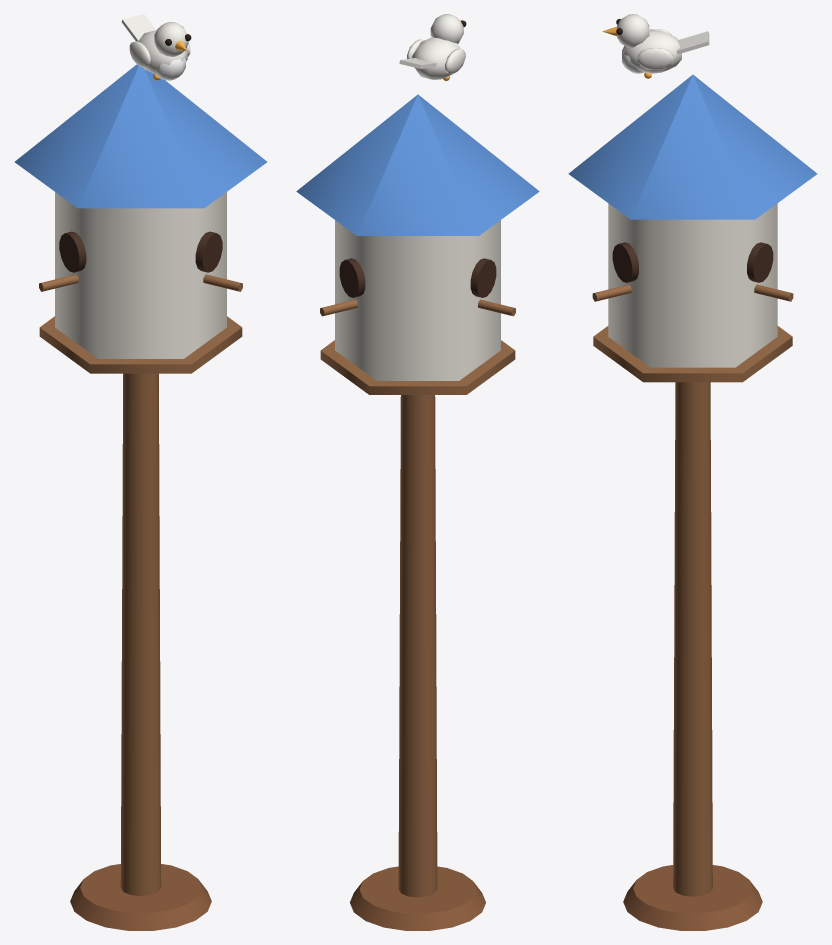
The model's file is birdhouse-dovecote.glb.
3 views of the same model, side by side, from view 1: azimuth 30°, elevation 25°; view 2: azimuth 150°, elevation 25°; view 3: azimuth 270°, elevation 25° (orthographic). The views are drawn at different scales.
Bounding box in the file's own units: 0.4437 × 1.96 × 0.5.
